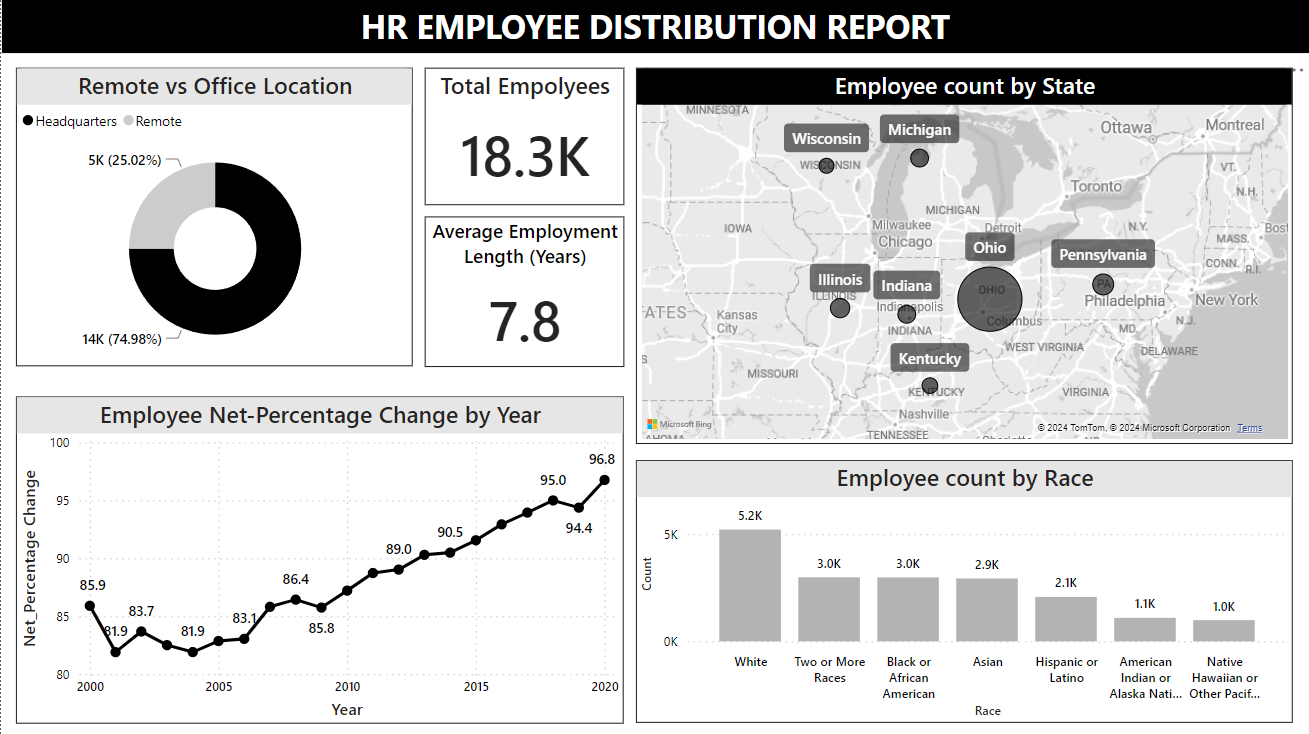

What the dashboard file says about the page in this screenshot:
{"tool":"powerbi","page":{"name":"Overview","canvas":[1280,720],"ordinal":0},"visuals":[{"type":"textbox","box":[0,0,1280.3,53.5],"z":0},{"type":"donutChart","title":"Remote vs Office Location","fields":{"Y":["Sum(remote_ornot.count(location))"],"Category":["remote_ornot.location"]},"box":[15.1,67.2,388.3,292.3],"z":1000},{"type":"map","title":"Employee count by State","fields":{"Size":["Sum(location_state.count(location_state))"],"Category":["location_state.location_state"]},"box":[621.6,67.2,642.2,367.8],"z":2000},{"type":"lineChart","title":"Employee Net-Percentage Change by Year","fields":{"Category":["emp_count_over_time.Year"],"Y":["Sum(emp_count_over_time.net_percent_change)"]},"box":[15.1,388.3,594.2,319.7],"z":3000},{"type":"clusteredColumnChart","title":"Employee count by Race","fields":{"Y":["Sum(race_br.count(race))"],"Category":["race_br.race"]},"box":[621.6,451.5,642.2,256.6],"z":4000},{"type":"card","title":"Total Empolyees","fields":{"Values":["Sum(gender_br.count(gender))"]},"box":[414.4,67.2,194.9,134.5],"z":4001},{"type":"card","title":"Average Employment Length (Years)","fields":{"Values":["Sum(avg_len_emp.av_length)"]},"box":[414.4,212.7,194.9,146.8],"z":4003}]}

Visuals, with their boxes in screenshot pixels (x1, y1, x2, y2), scaled from the page's 1280x720 canvas onto the 1309x734 screenshot:
textbox: BBox(0, 0, 1308, 55)
"Remote vs Office Location" donutChart: BBox(15, 69, 413, 366)
"Employee count by State" map: BBox(636, 69, 1292, 443)
"Employee Net-Percentage Change by Year" lineChart: BBox(15, 396, 623, 722)
"Employee count by Race" clusteredColumnChart: BBox(636, 460, 1292, 722)
"Total Empolyees" card: BBox(424, 69, 623, 206)
"Average Employment Length (Years)" card: BBox(424, 217, 623, 366)
